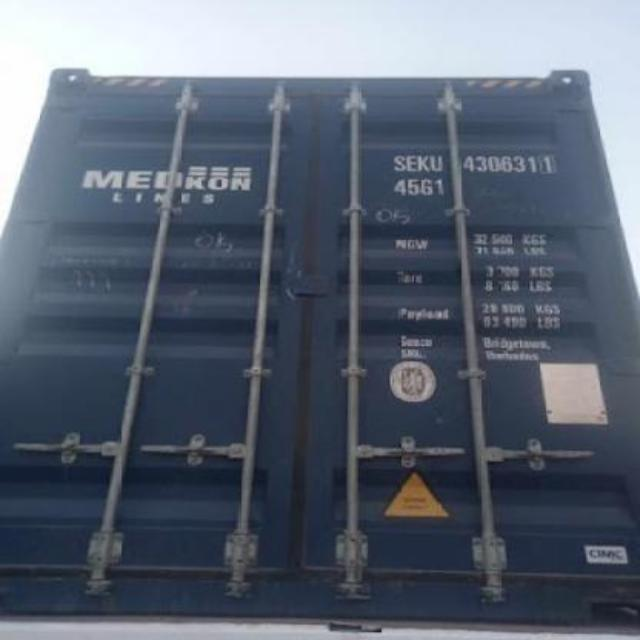0: (486, 149, 498, 175)
1: (540, 150, 556, 177), (526, 148, 538, 178)
3: (512, 150, 526, 174), (474, 150, 486, 172)
4: (462, 152, 474, 172)
6: (498, 150, 512, 177)
E: (404, 147, 416, 176)
K: (416, 146, 428, 178)
S: (392, 149, 404, 175)
U: (430, 148, 442, 176)
